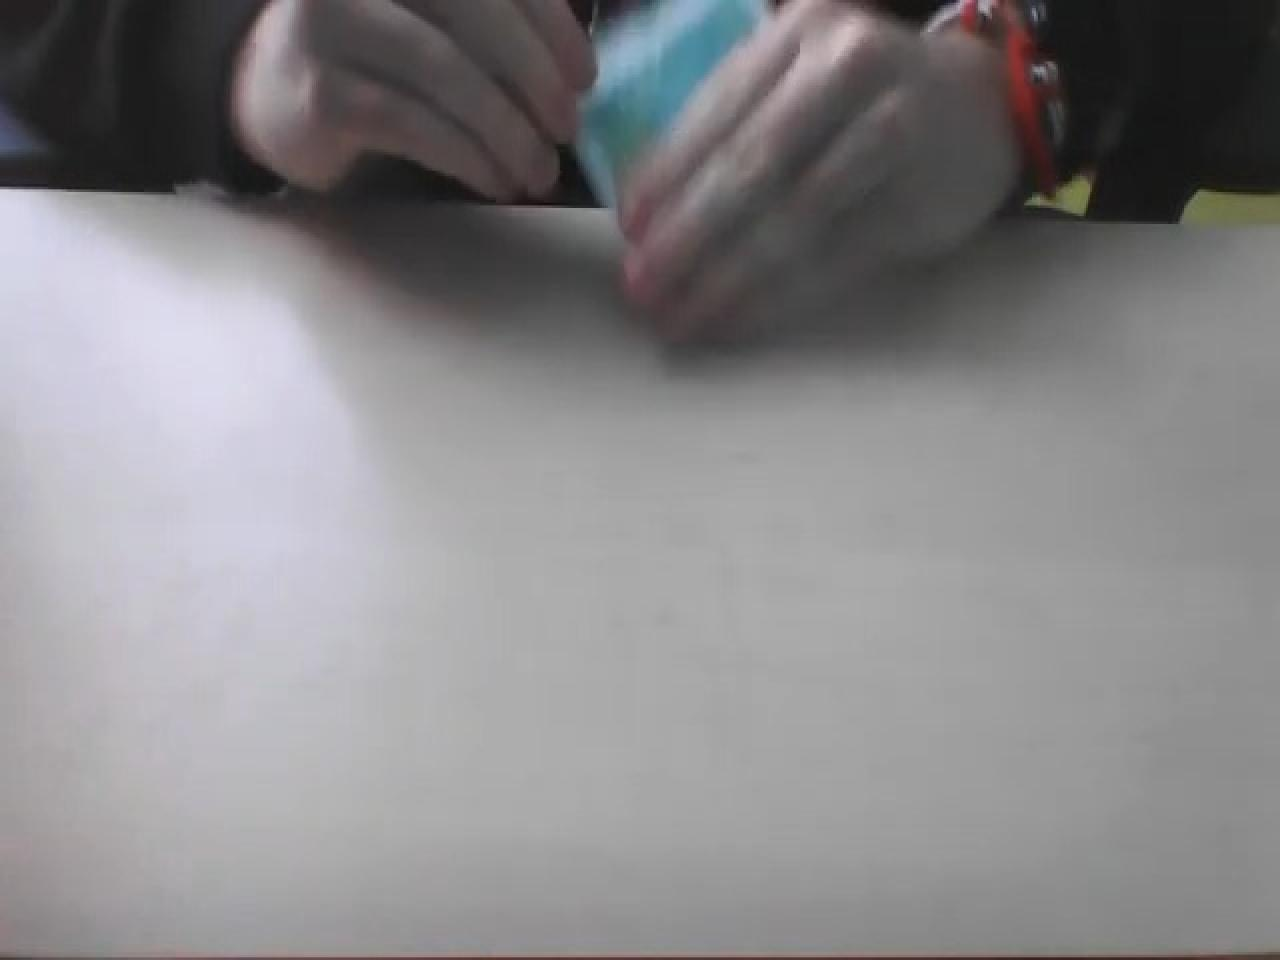100leva: (566, 0, 770, 211)
